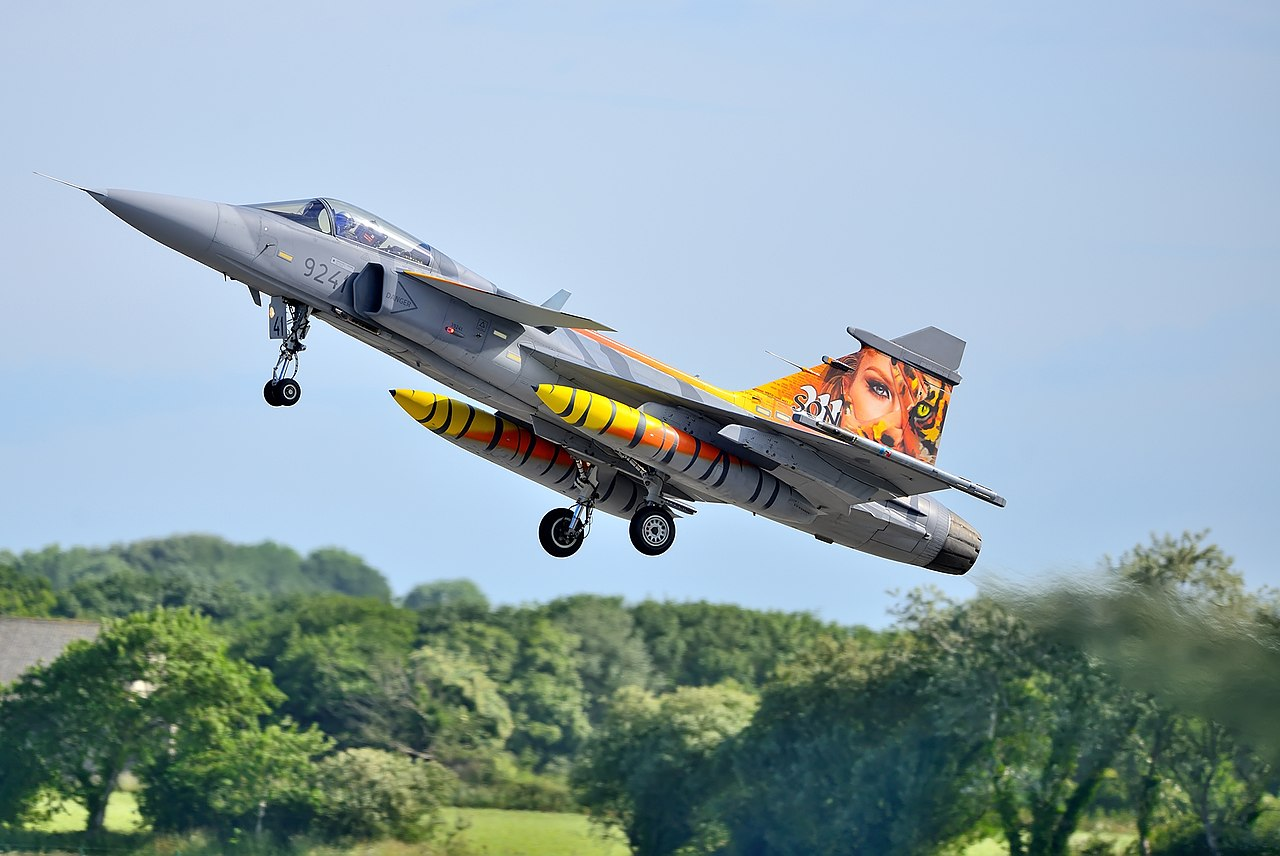JAS39: (32, 170, 1007, 575)
